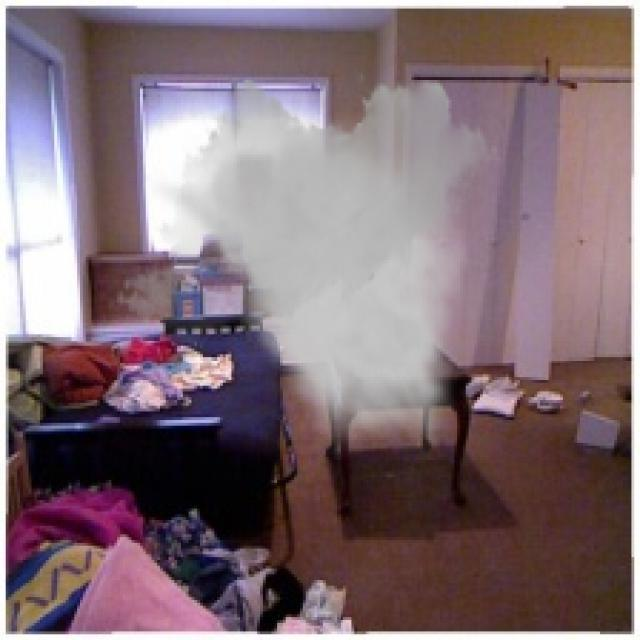Smoke: (114, 68, 500, 460)
